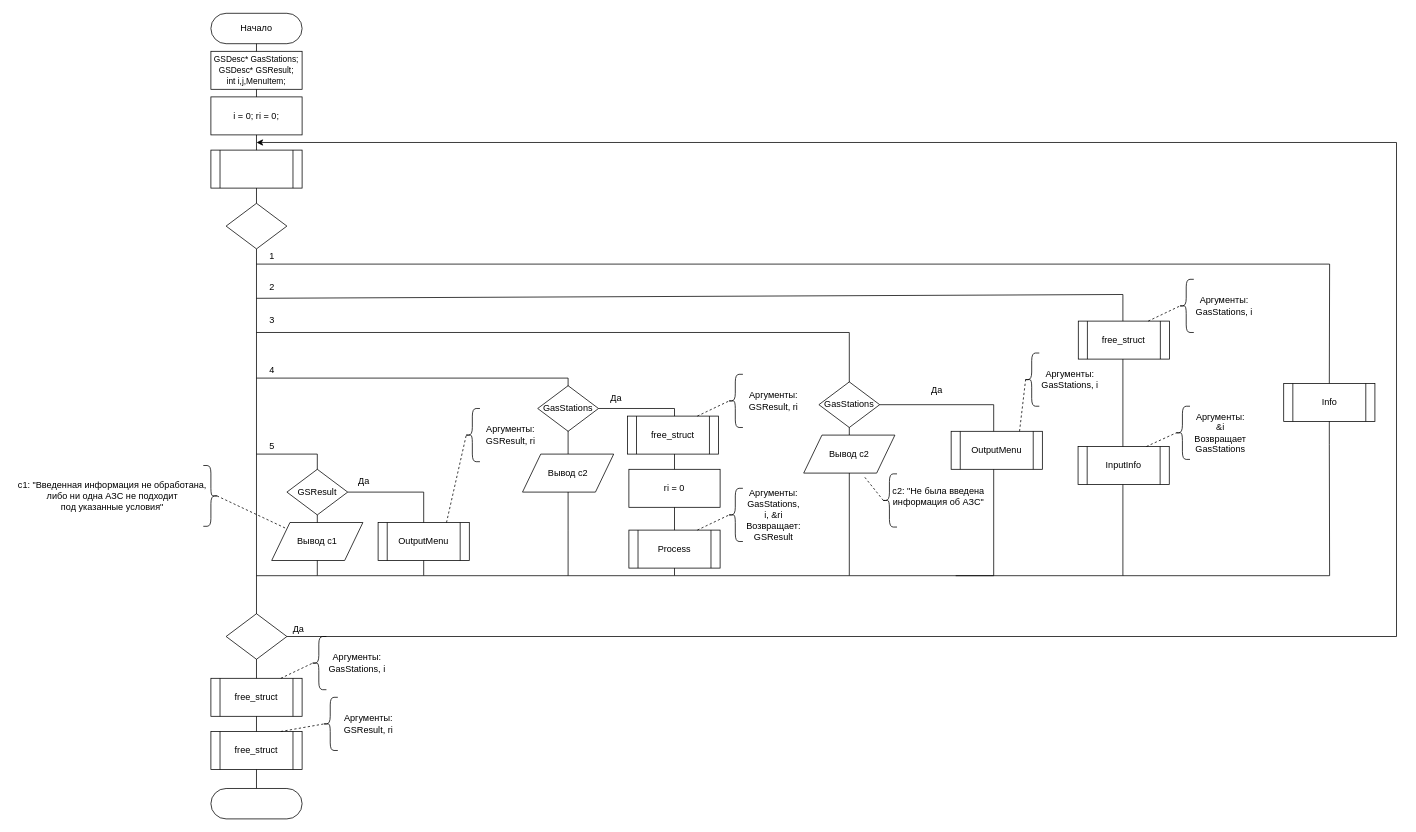
Image size: 1416x832. Some labels were removed from this diagram. The centre of each missing label's shape, as x and y in pixels:
"MenuItem" belongs at point 256,226.
"MenuItem != 0" belongs at point 256,636.
"MenuItem = Menu();" belongs at point 256,168.
"Конец" belongs at point 256,803.
